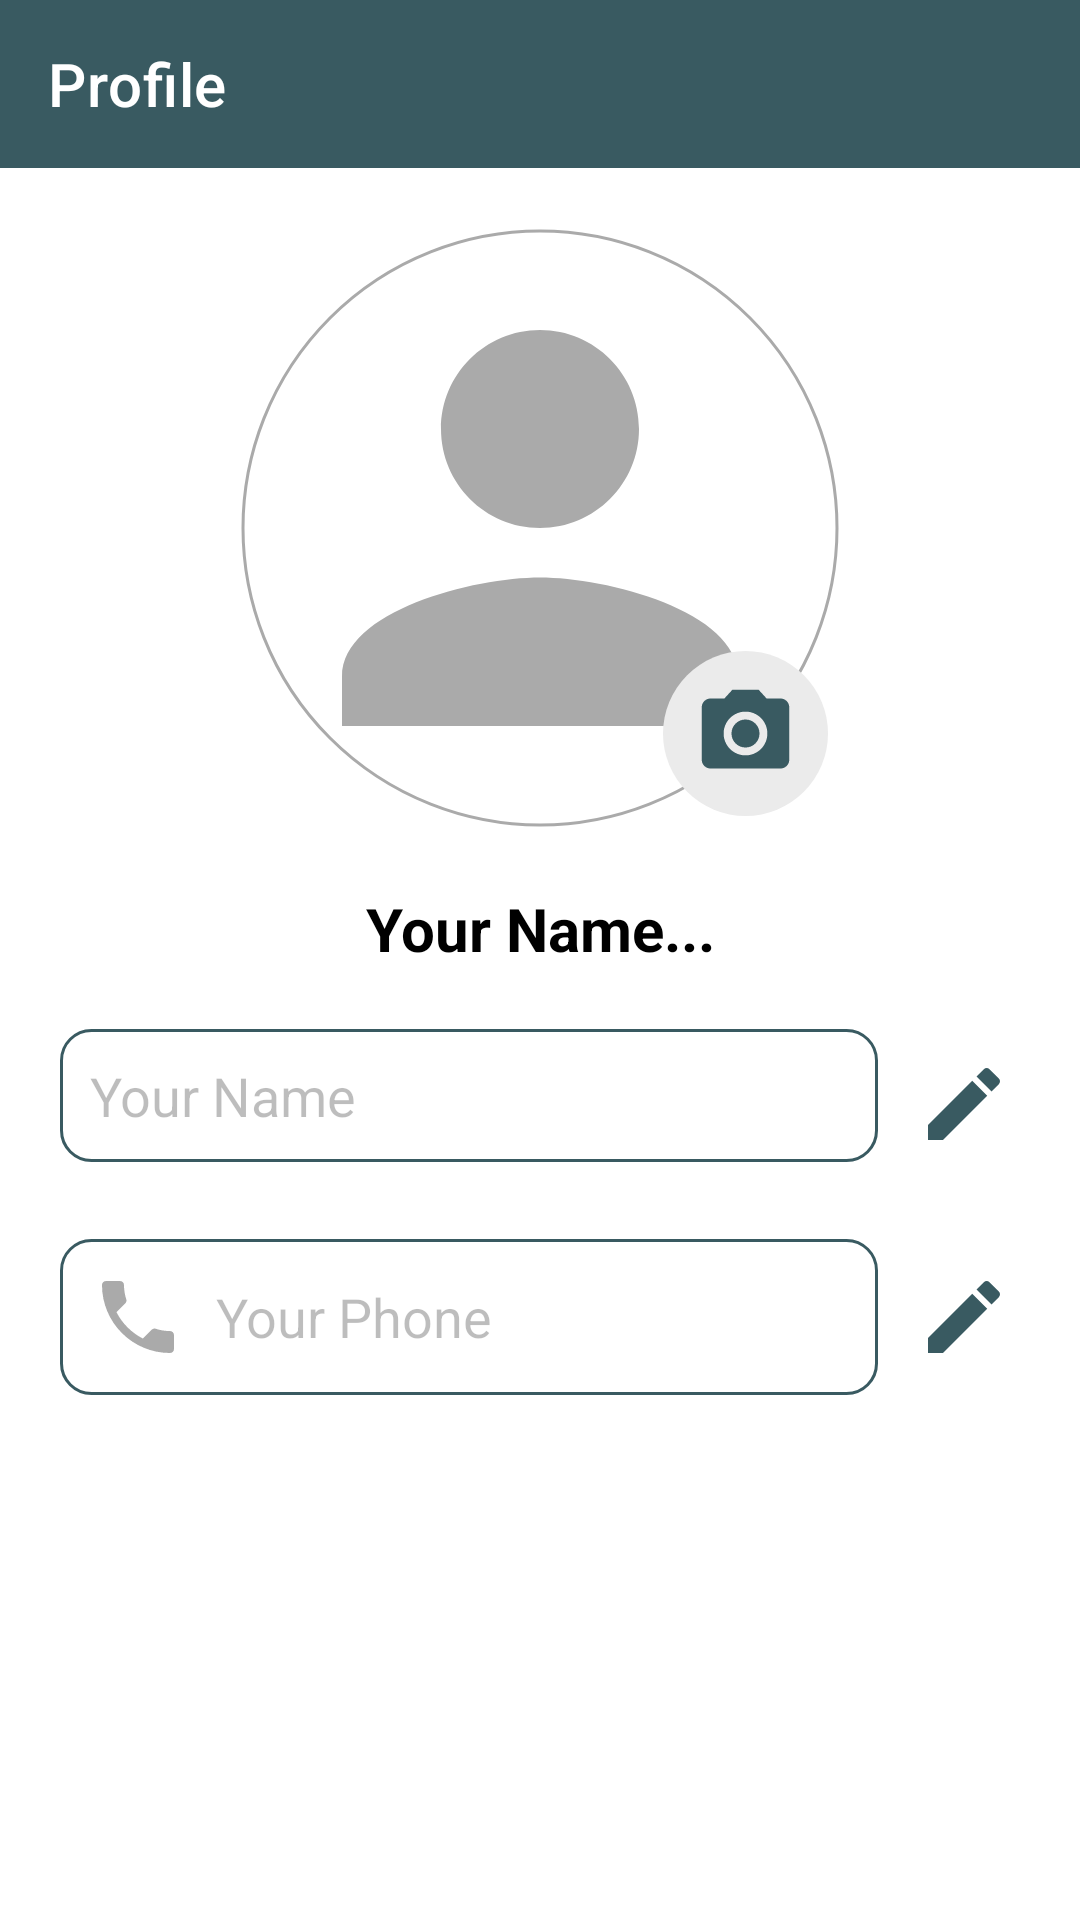

Icons on this 1080×1920 Android screen, each with its box as (x1, y1, x2, y2):
edit: (928, 1068, 1000, 1140), (928, 1281, 1000, 1353)
